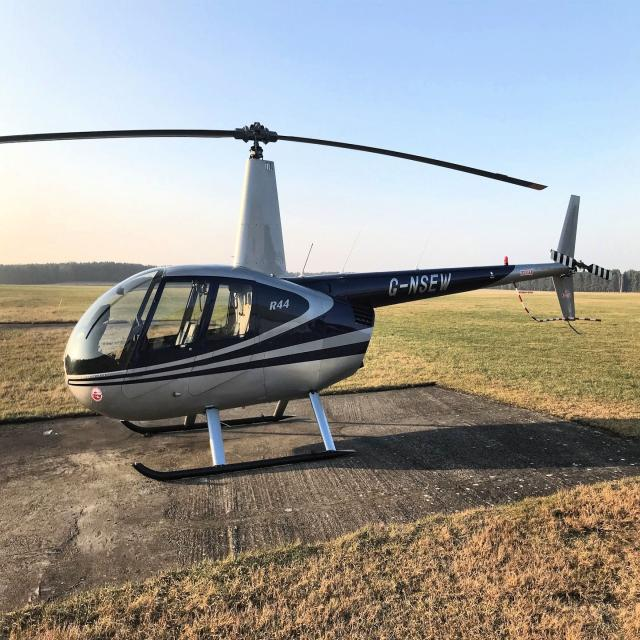CIV_HELO: (61, 122, 581, 484)
